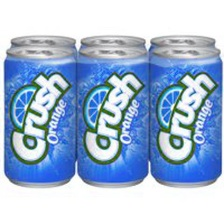can: (2, 44, 77, 192), (147, 44, 223, 189), (76, 43, 150, 189), (78, 31, 148, 50), (150, 31, 217, 48), (7, 33, 77, 48)
